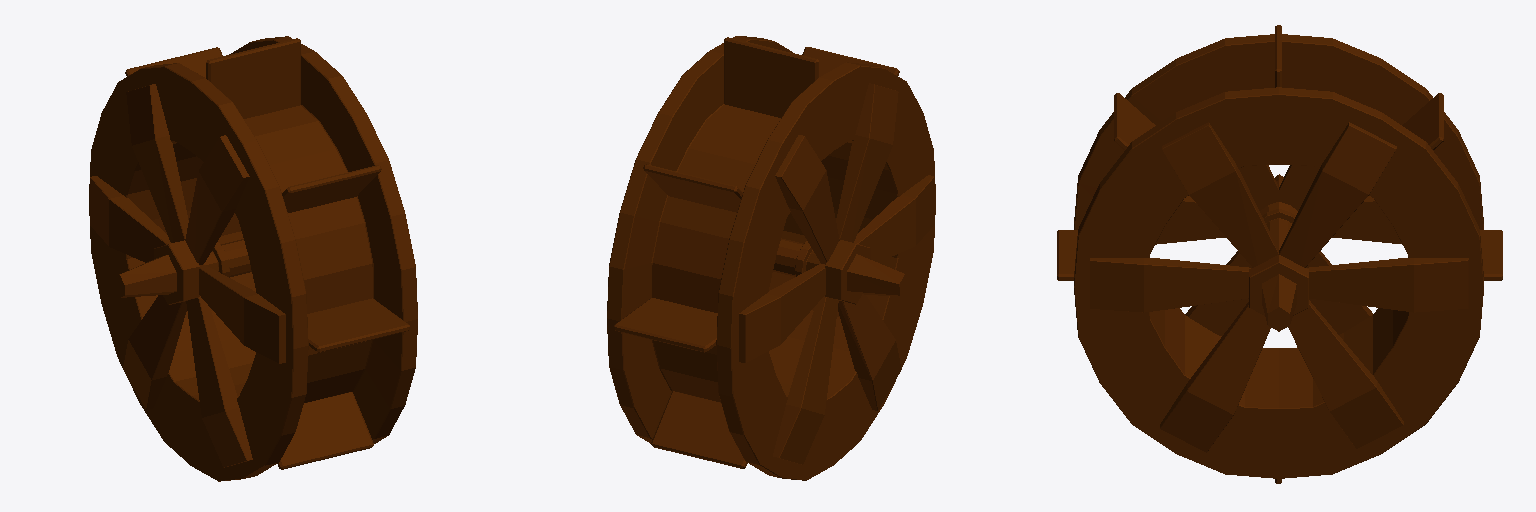
File: waterwheel.obj
The picture shows the model from 3 angles: view 1: azimuth 30°, elevation 25°; view 2: azimuth 150°, elevation 25°; view 3: azimuth 270°, elevation 25°; orthographic projection.
Visible parts, largest first — view 1: polySurface53_Untitled.059; view 2: polySurface53_Untitled.059; view 3: polySurface53_Untitled.059.
Part boxes in pixels (x1,y1,x2,y2): polySurface53_Untitled.059: (89,36,417,481); polySurface53_Untitled.059: (607,36,935,480); polySurface53_Untitled.059: (1057,25,1502,483).
Size of the model in its own units: 1.94 by 2.82 by 2.75.